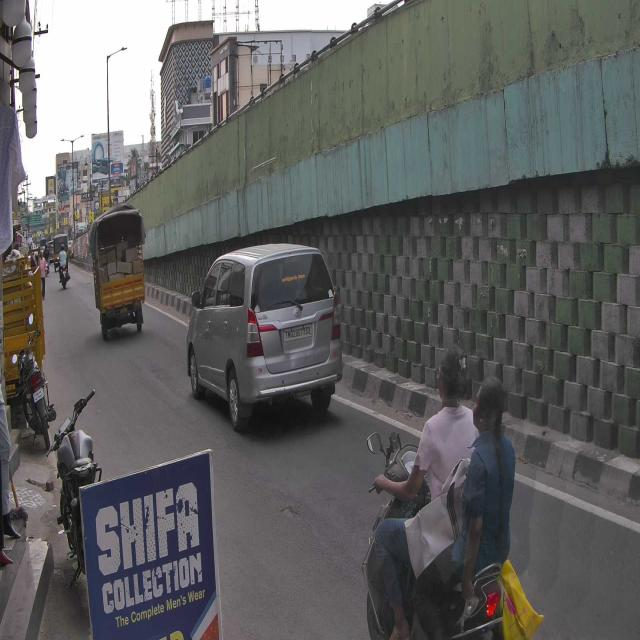double_rider: (362, 334, 522, 640)
